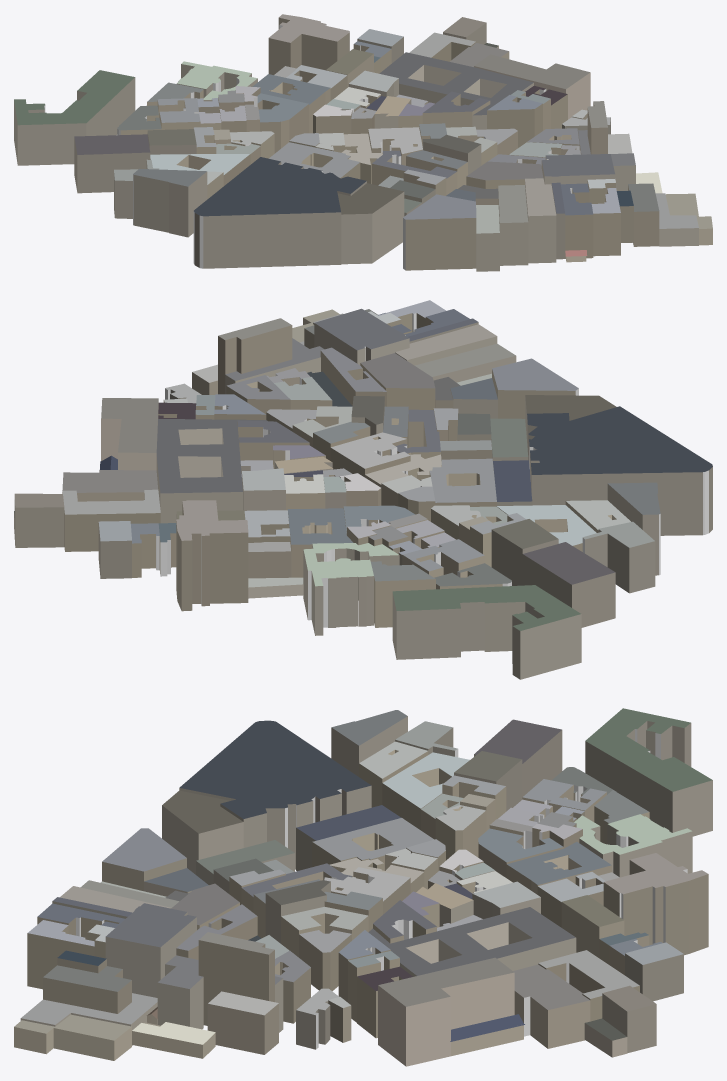
3 views of the same model, one above another, from view 1: azimuth 30°, elevation 25°; view 2: azimuth 150°, elevation 25°; view 3: azimuth 270°, elevation 25° (orthographic). The views are drawn at different scales.
Parts seen in each view (by area): view 1: tuile; view 2: tuile; view 3: tuile.
Boxes of the visible parts, x1,y1,x2,y2 form: tuile: [14, 14, 712, 271]; tuile: [14, 300, 712, 679]; tuile: [14, 708, 712, 1066].
Bounding box in the file's own units: 280 × 40.93 × 279.
